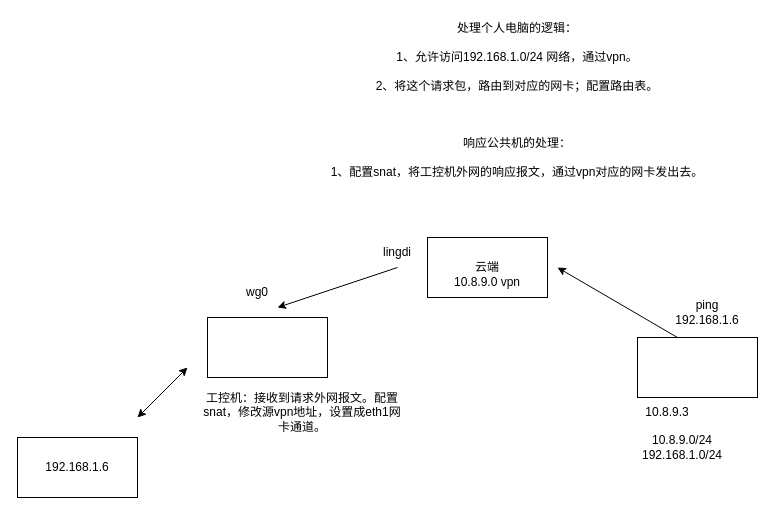
Image size: 775x515. Some labels were removed from this diagram. Here are the shapes that lost their labels. From the top down, the centre of each, then its label:
At (267,347): "工控机 192.168.1.100 eth1 10.8.9.2 wg0".
At (697,367): "个人电脑".
